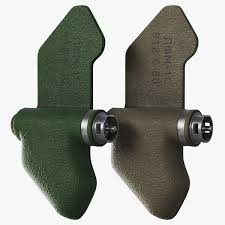butterfly: (105, 3, 217, 225), (8, 4, 113, 223)
